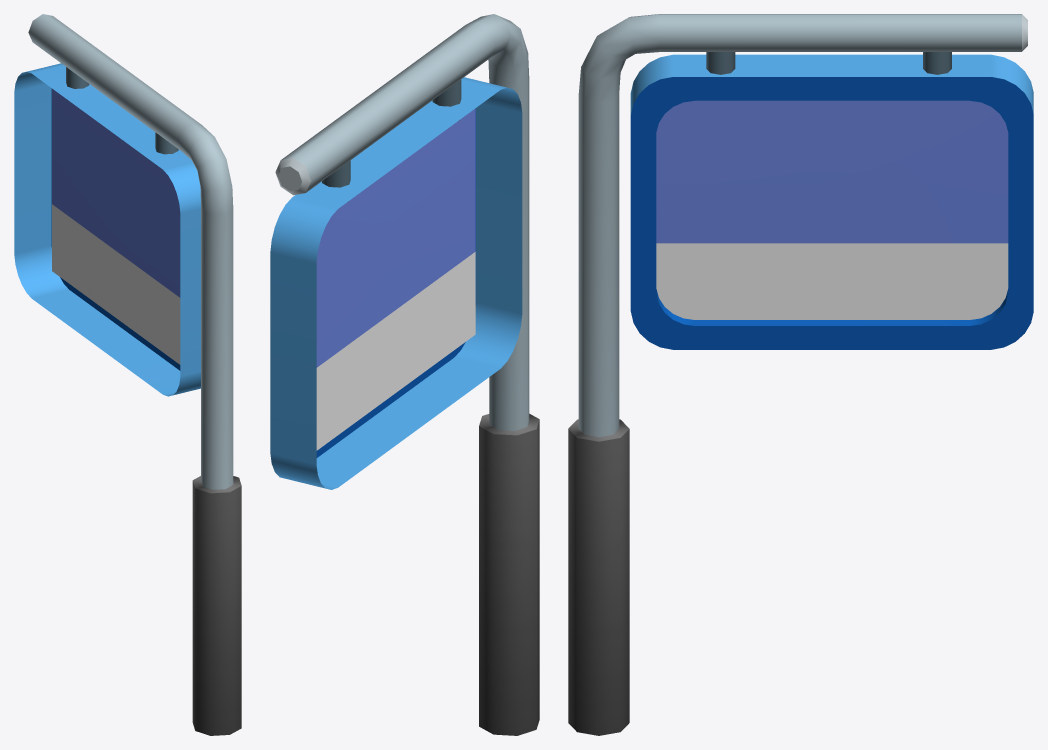
The model's file is sign.fbx.
3 renders of one model, left to right at view 1: azimuth 30°, elevation 25°; view 2: azimuth 150°, elevation 25°; view 3: azimuth 270°, elevation 25°, orthographic. The views are drawn at different scales.
Parts seen in each view (by area): view 1: polySurface81s3, Nhachoi_18; view 2: polySurface81s3, Nhachoi_18; view 3: polySurface81s3, Nhachoi_18.
Part boxes in pixels (<box>): polySurface81s3: <box>14,63,200,396</box>; Nhachoi_18: <box>28,14,241,735</box>; polySurface81s3: <box>270,77,522,489</box>; Nhachoi_18: <box>275,14,539,735</box>; polySurface81s3: <box>630,54,1033,349</box>; Nhachoi_18: <box>568,14,1027,735</box>.
Bounding box in the file's own units: 3.28 × 40.19 × 23.95.
Materials: 1 (1 with a texture image).
